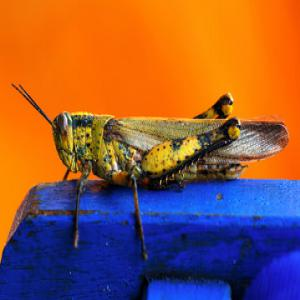locust: (25, 85, 300, 196)
